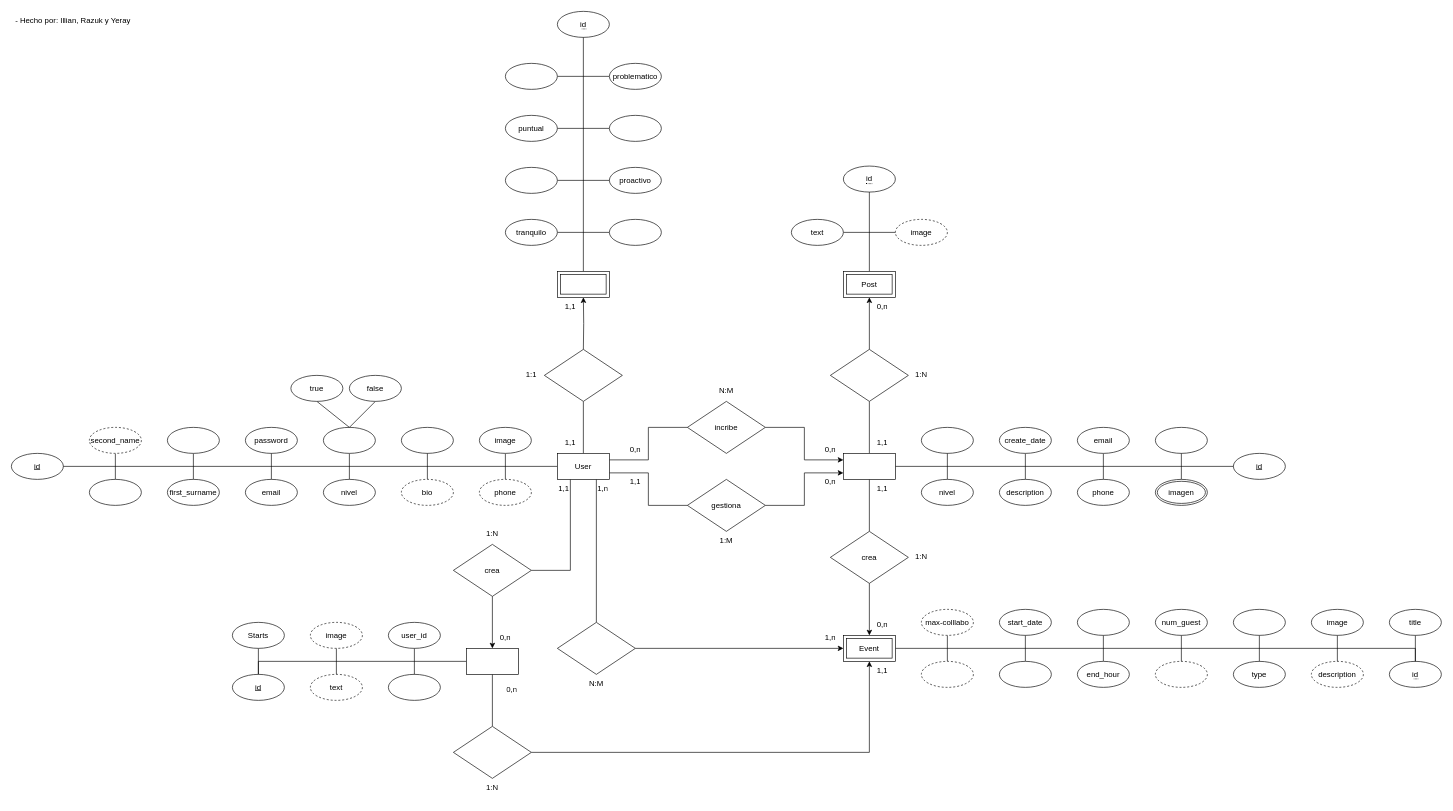
The diagram is 1453 pixels wide and 811 high, and some of its shapes have lost their labels. Each missing label, with the centre of its shape:
"admin" goes at point (349, 440).
"amable" goes at point (531, 76).
"asiste" goes at point (596, 648).
"Association" goes at point (869, 466).
"Attribute" goes at point (583, 284).
"birth_date" goes at point (427, 440).
"colaborador" goes at point (635, 232).
"Comment" goes at point (492, 661).
"end_date" goes at point (1025, 674).
"event_id" goes at point (414, 687).
"first_name" goes at point (115, 492).
"id_encargado" goes at point (947, 440).
"impuntual" goes at point (635, 128).
"max_guest" goes at point (1181, 674).
"name" goes at point (1181, 440).
"num-collabo" goes at point (947, 674).
"pertenece" goes at point (492, 752).
"publica" goes at point (869, 375).
"second_surname" goes at point (193, 440).
"serio" goes at point (531, 180).
"start_hour" goes at point (1103, 622).
"state" goes at point (1259, 622).
"tiene" goes at point (583, 375).
